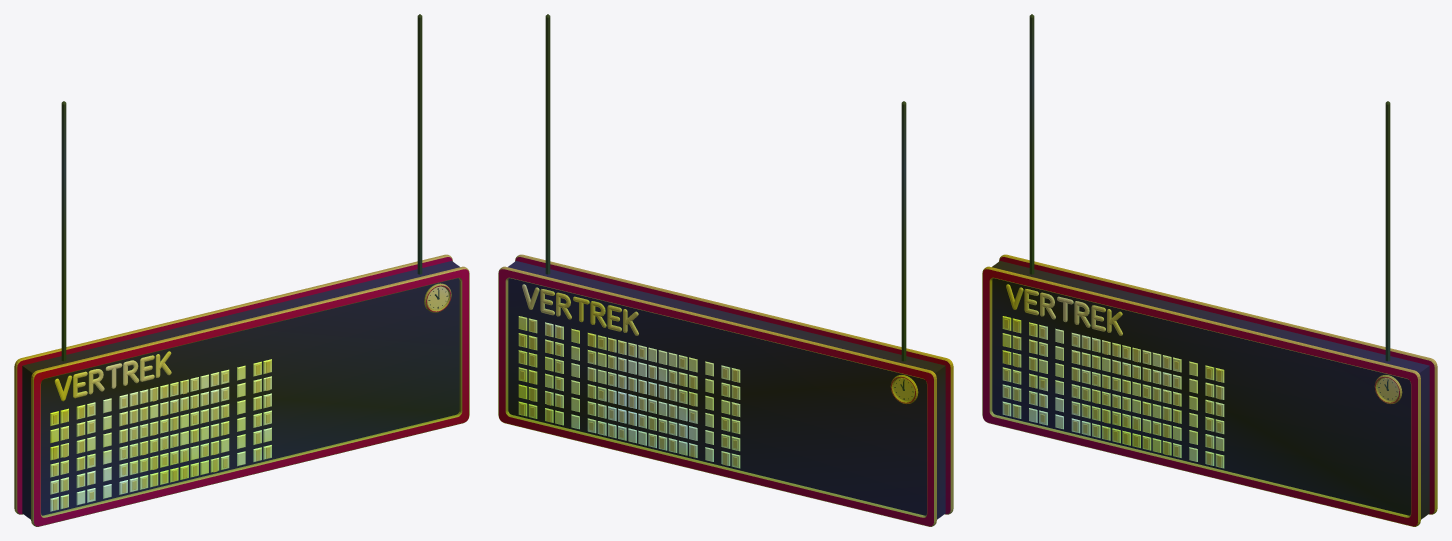
The model's file is GS_DepartureBoard.fbx.
The picture shows the model from 3 angles, left to right: view 1: azimuth 30°, elevation 25°; view 2: azimuth 150°, elevation 25°; view 3: azimuth 330°, elevation 25°; orthographic projection.
Parts seen in each view (by area): view 1: GS_DepartureBoard; view 2: GS_DepartureBoard; view 3: GS_DepartureBoard.
Part boxes in pixels (<box>): GS_DepartureBoard: <box>14,14,469,526</box>; GS_DepartureBoard: <box>498,14,953,526</box>; GS_DepartureBoard: <box>982,14,1437,526</box>.
Size of the model in its own units: 7.12 by 6.4 by 0.5504.
